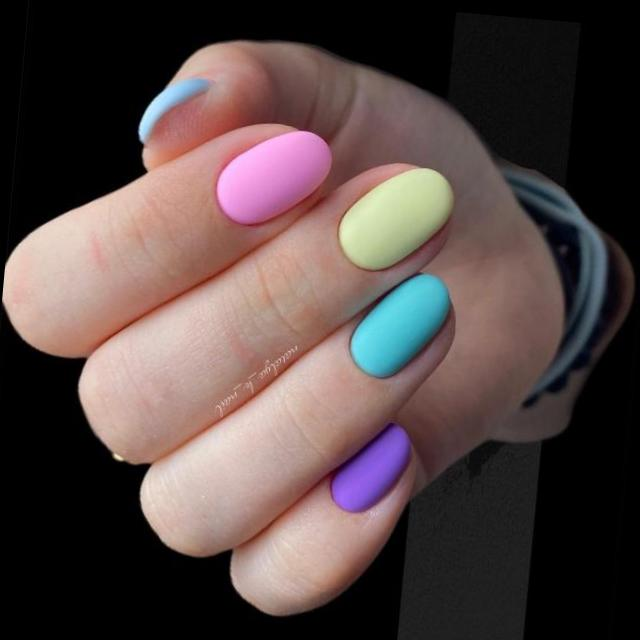Nail: (337, 166, 452, 269), (215, 129, 331, 224), (348, 273, 450, 377), (330, 422, 410, 511), (138, 77, 206, 140)
